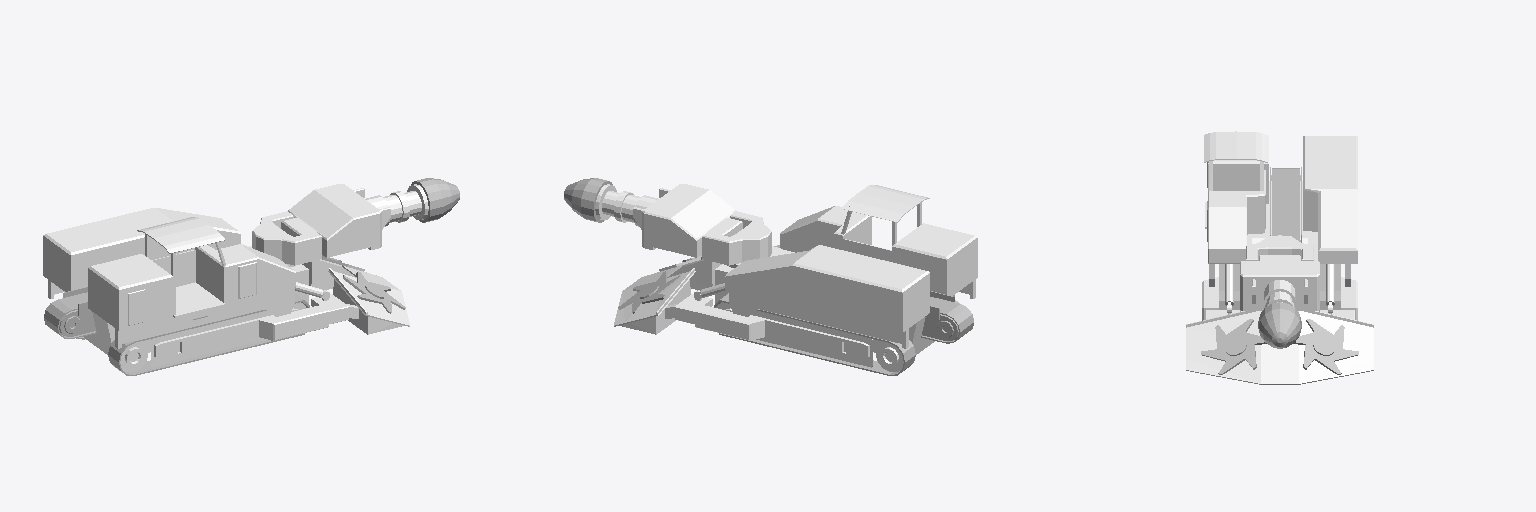
Rendered from teilschnitt_export_triangulated_LOD.obj.
3 renders of one model, left to right at view 1: azimuth 30°, elevation 25°; view 2: azimuth 150°, elevation 25°; view 3: azimuth 270°, elevation 25°, orthographic.
Visible parts, largest first — view 1: Body, drill_body, front_shovel, drill, drill_body_rotator, rope, shovel_gear, wheels; view 2: Body, drill_body, front_shovel, drill, drill_body_rotator, rope, shovel_gear, wheels; view 3: Body, front_shovel, shovel_gear, drill_body, drill, drill_body_rotator, rope.
Part boxes in pixels (bbox=[...]): Body: bbox=[43, 208, 358, 367]; drill_body: bbox=[281, 184, 390, 257]; front_shovel: bbox=[302, 259, 409, 334]; drill: bbox=[365, 178, 459, 226]; drill_body_rotator: bbox=[250, 211, 321, 266]; rope: bbox=[76, 293, 309, 375]; shovel_gear: bbox=[322, 255, 405, 313]; wheels: bbox=[120, 302, 305, 371]; Body: bbox=[665, 185, 977, 367]; drill_body: bbox=[633, 184, 742, 257]; front_shovel: bbox=[614, 259, 721, 334]; drill: bbox=[564, 178, 658, 226]; drill_body_rotator: bbox=[702, 211, 779, 267]; rope: bbox=[714, 293, 959, 375]; shovel_gear: bbox=[618, 255, 701, 313]; wheels: bbox=[718, 302, 903, 371]; Body: bbox=[1202, 131, 1357, 320]; front_shovel: bbox=[1186, 311, 1373, 384]; shovel_gear: bbox=[1201, 319, 1358, 374]; drill_body: bbox=[1240, 255, 1319, 310]; drill: bbox=[1258, 280, 1301, 348]; drill_body_rotator: bbox=[1246, 235, 1313, 260]; rope: bbox=[1219, 264, 1340, 311].
Bounding box in the file's own units: 4.77 × 1.44 × 1.93.